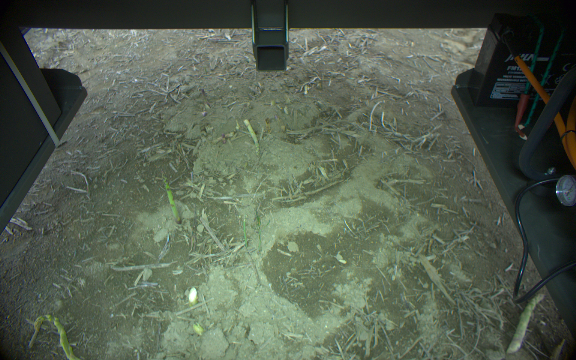aspa: (31, 311, 86, 360), (159, 172, 182, 227)
